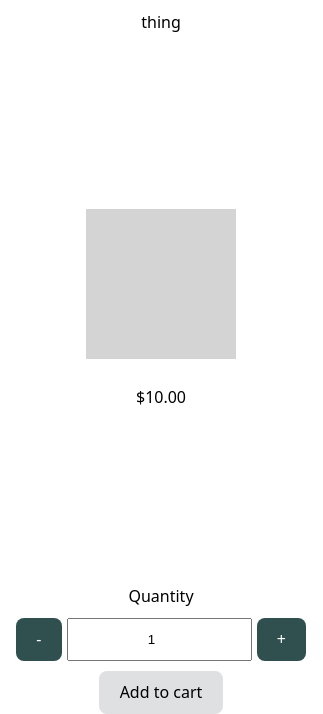
Product component › increases quantity input on plus button click
The width and height of the screenshot is (323, 714).
Click the button "+".
click(281, 639)  # box [256, 618, 306, 661]
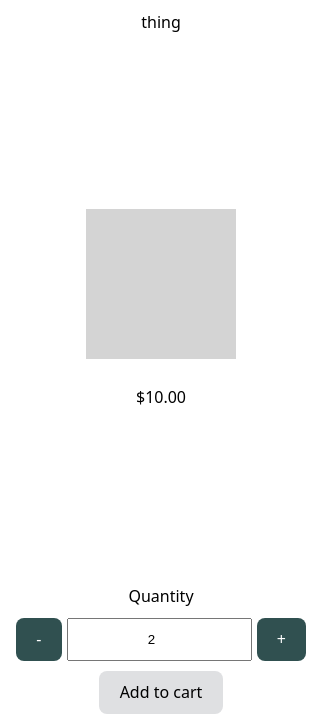
Expected: the number field holds "2", [66, 618, 252, 661]
